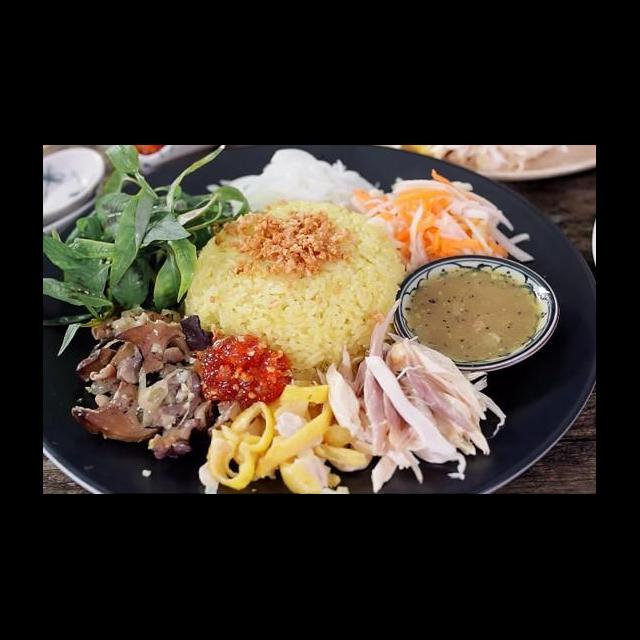com: (178, 196, 412, 378)
com ga: (46, 168, 596, 494)
dua chua: (348, 166, 538, 278)
rau ram: (44, 146, 254, 330)
thit ga: (314, 296, 511, 494), (195, 378, 372, 494)
